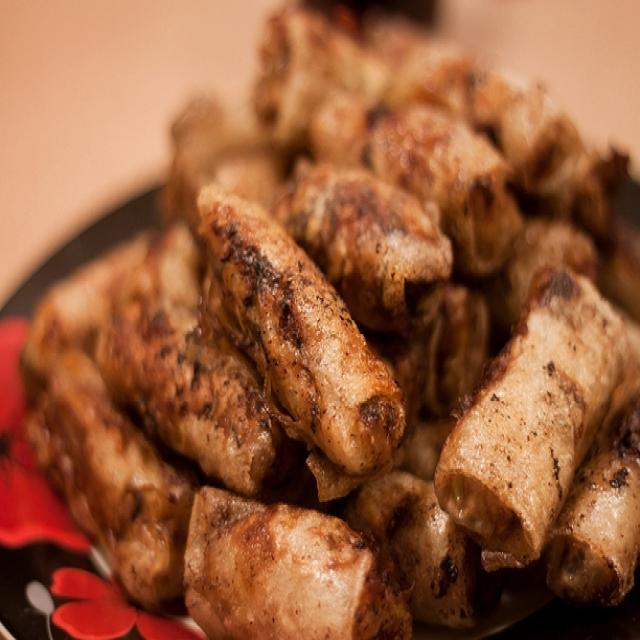炸货点心: (22, 24, 630, 610)
